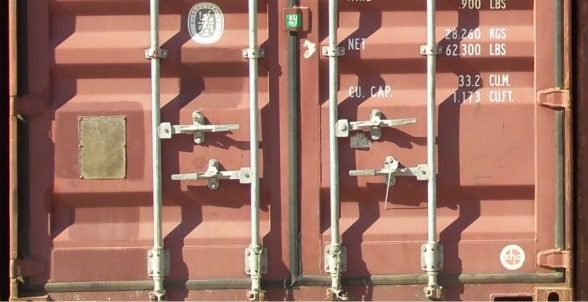container_door: (9, 2, 570, 302)
